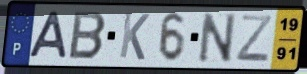6: (157, 11, 187, 64)
A: (26, 10, 69, 61)
B: (67, 10, 109, 62)
K: (117, 11, 151, 62)
N: (198, 11, 238, 65)
Z: (234, 13, 274, 64)
